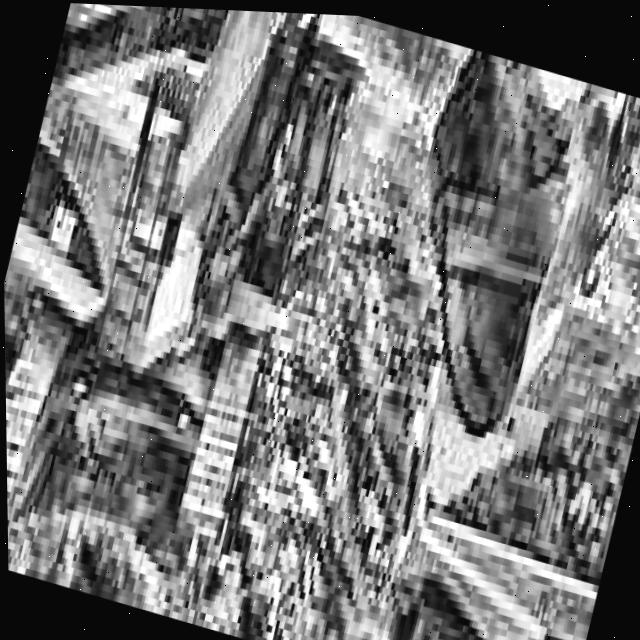dump_truck: (307, 212, 640, 640)
excavator: (0, 0, 640, 640)
